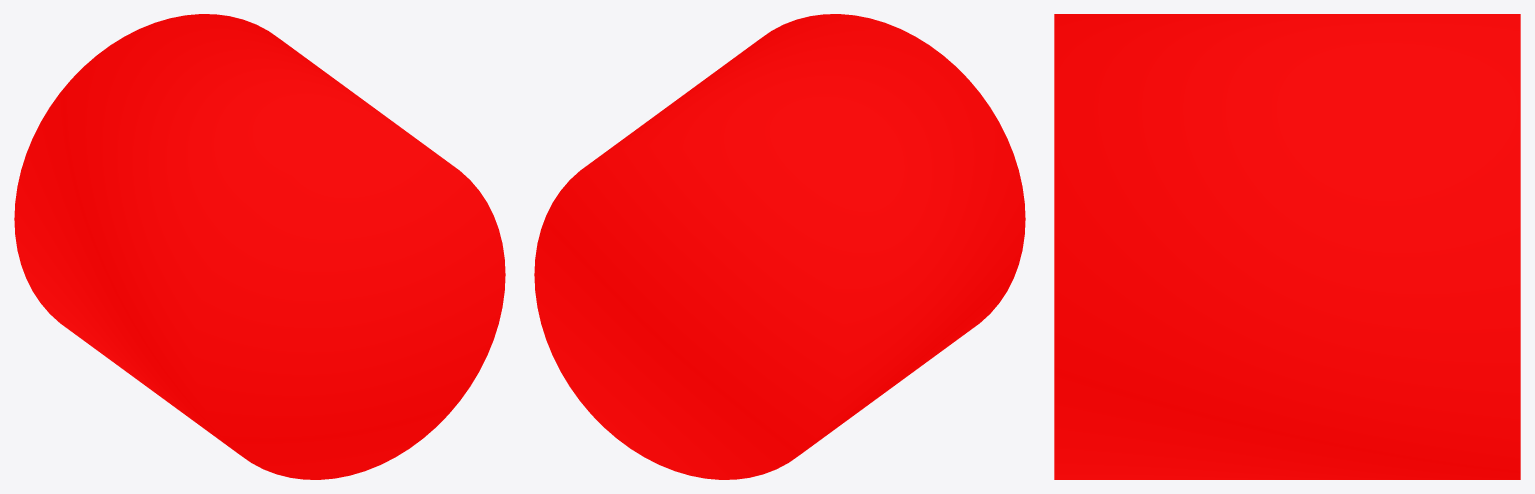
File: emissive-cylinder-x3.glb
3 renders of one model, left to right at view 1: azimuth 30°, elevation 25°; view 2: azimuth 150°, elevation 25°; view 3: azimuth 270°, elevation 25°, orthographic. The views are drawn at different scales.
Parts seen in each view (by area): view 1: world; view 2: world; view 3: world.
Boxes of the visible parts, x1,y1,x2,y2 form: world: (14,14,505,479); world: (534,14,1025,479); world: (1054,14,1520,479).
Size of the model in its own units: 1 by 1 by 1.
